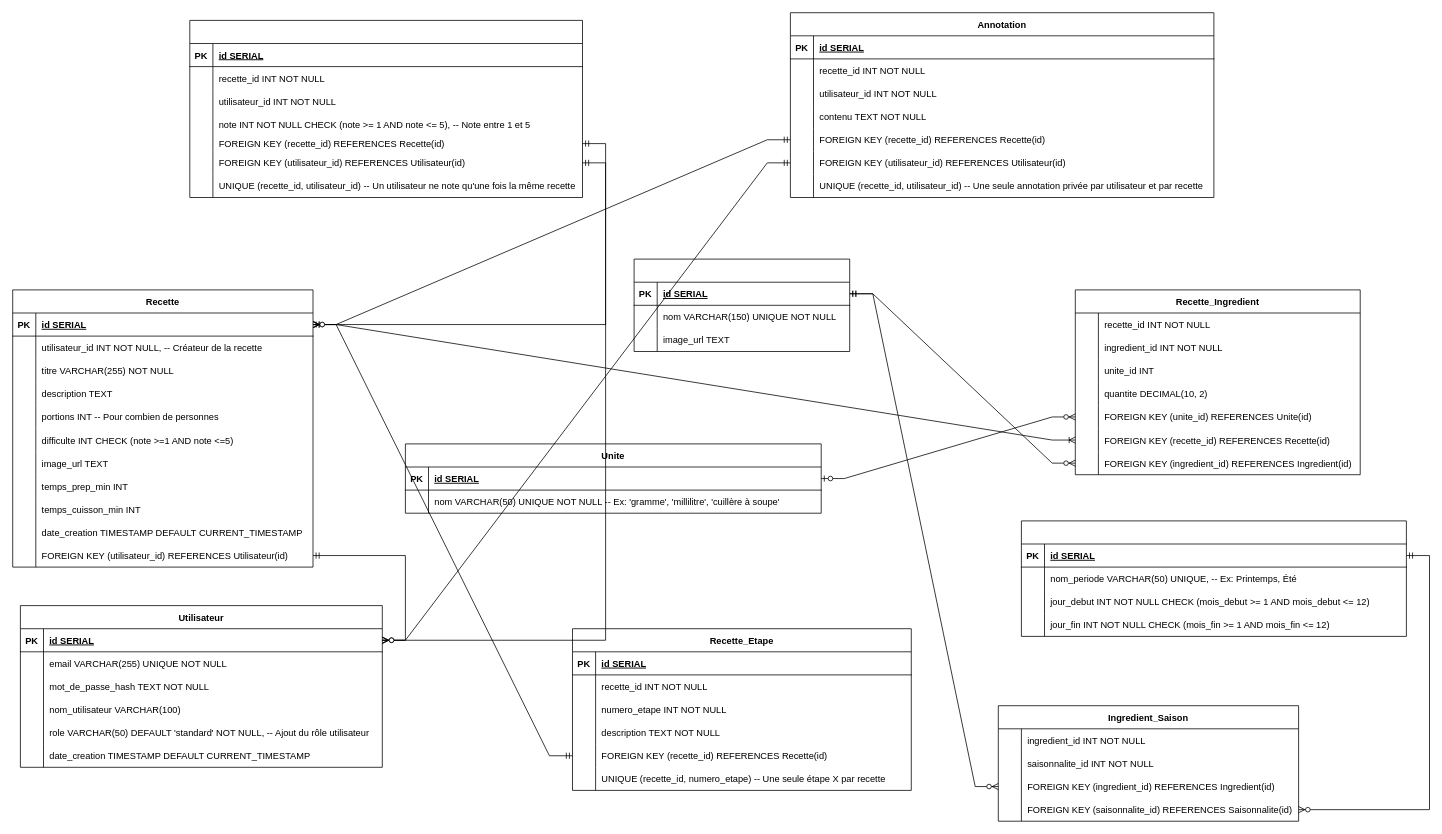
The diagram is 1442 pixels wide and 834 high, and some of its shapes have lost their labels. Here are the shapes that lost their labels. From the top down, the box of each, then its label:
(189, 20, 583, 198): Notation
(633, 258, 850, 352): Ingredient
(1021, 520, 1406, 636): Saisonnalite
